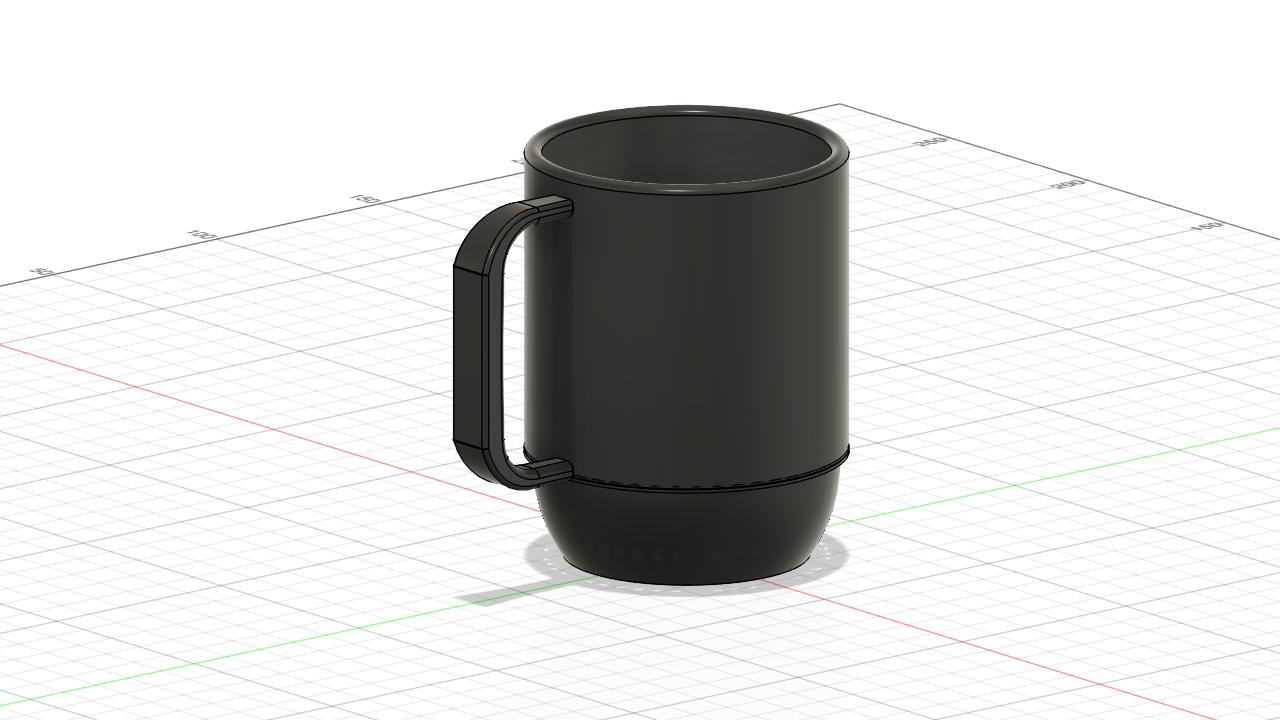mug-real100-3d100: (454, 106, 848, 584)
